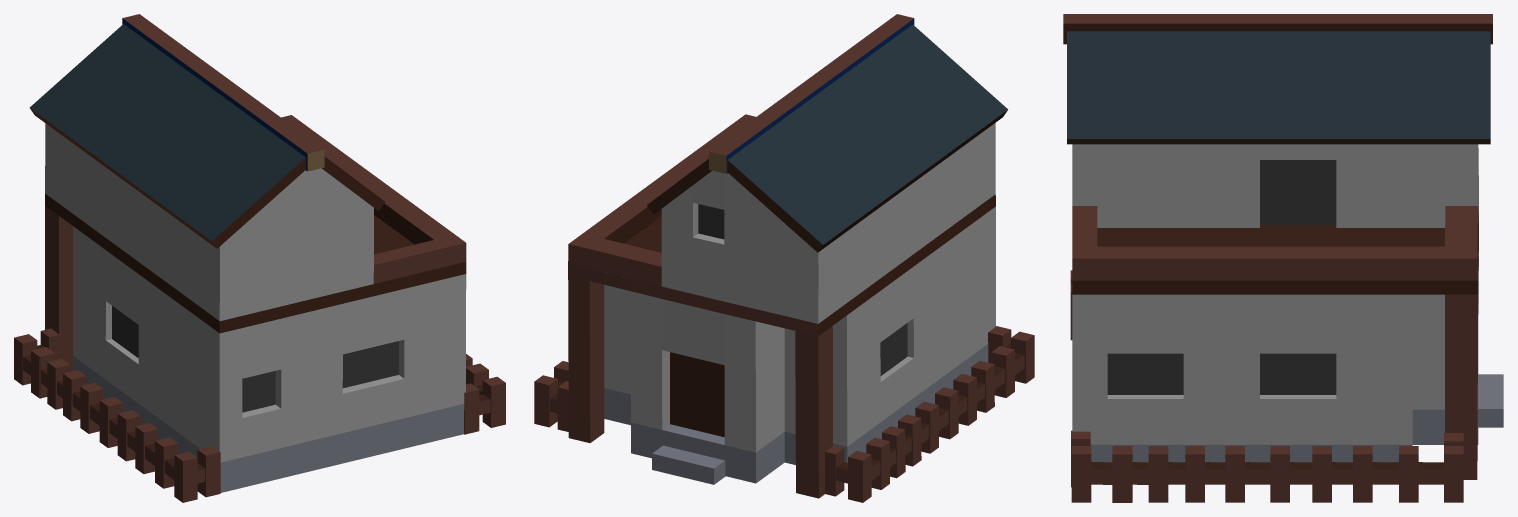
The model's file is house.fbx.
The picture shows the model from 3 angles, left to right: view 1: azimuth 30°, elevation 25°; view 2: azimuth 150°, elevation 25°; view 3: azimuth 270°, elevation 25°; orthographic projection. The views are drawn at different scales.
Visible parts, largest first — view 1: House; view 2: House; view 3: House.
Boxes of the visible parts, left/top/right/bottom form: House: left=14, top=14, right=505, bottom=502; House: left=534, top=14, right=1034, bottom=502; House: left=1063, top=14, right=1503, bottom=502.
Bounding box in the file's own units: 1003 × 954 × 1016.
